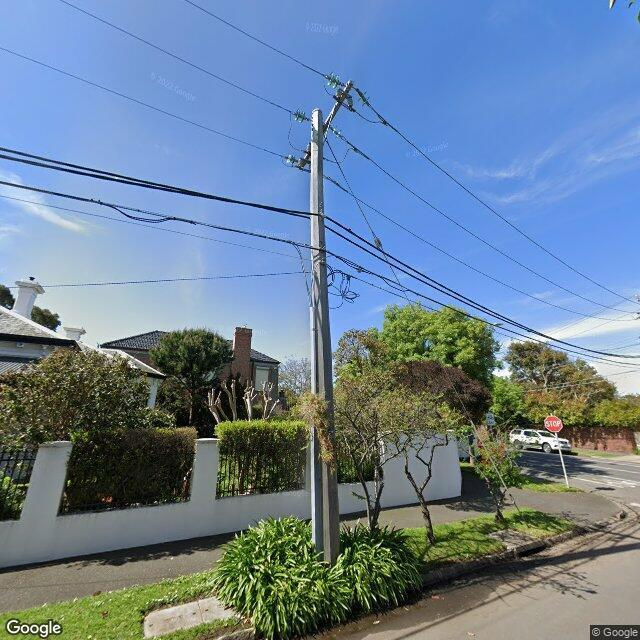HV-transmission: (287, 72, 389, 173)
crossarm: (302, 80, 353, 167)
timber-pole: (310, 108, 342, 567)
